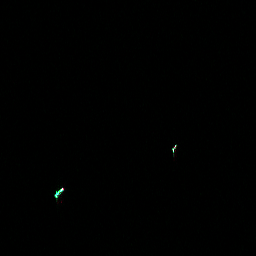ship: (52, 184, 66, 200), (170, 142, 178, 154)
